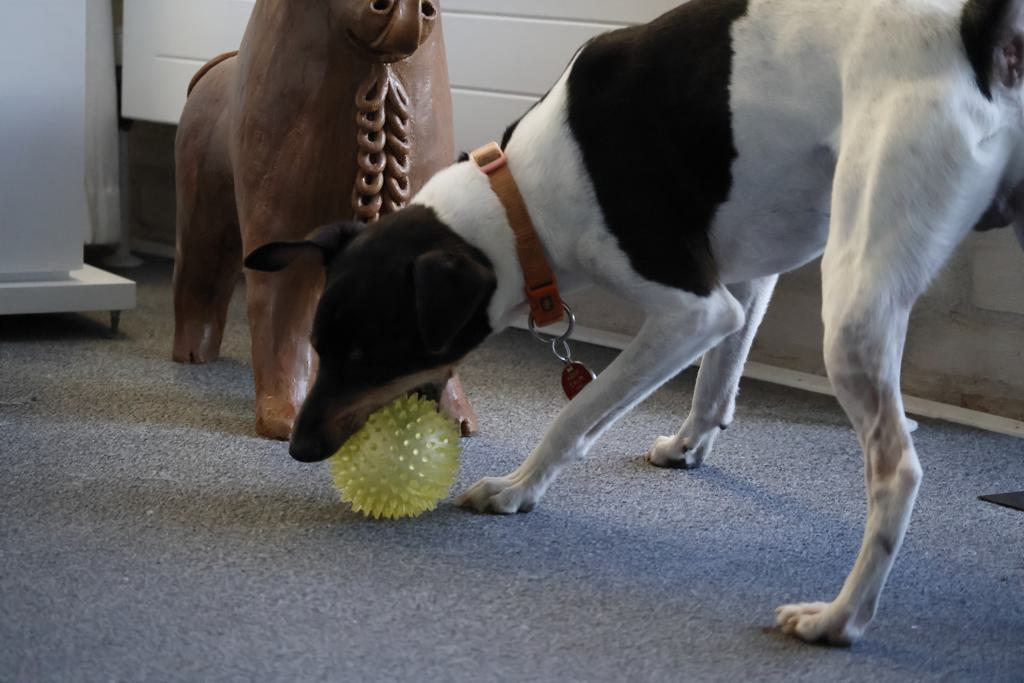Cattle: (158, 0, 490, 444)
Dog: (229, 0, 1024, 657)
